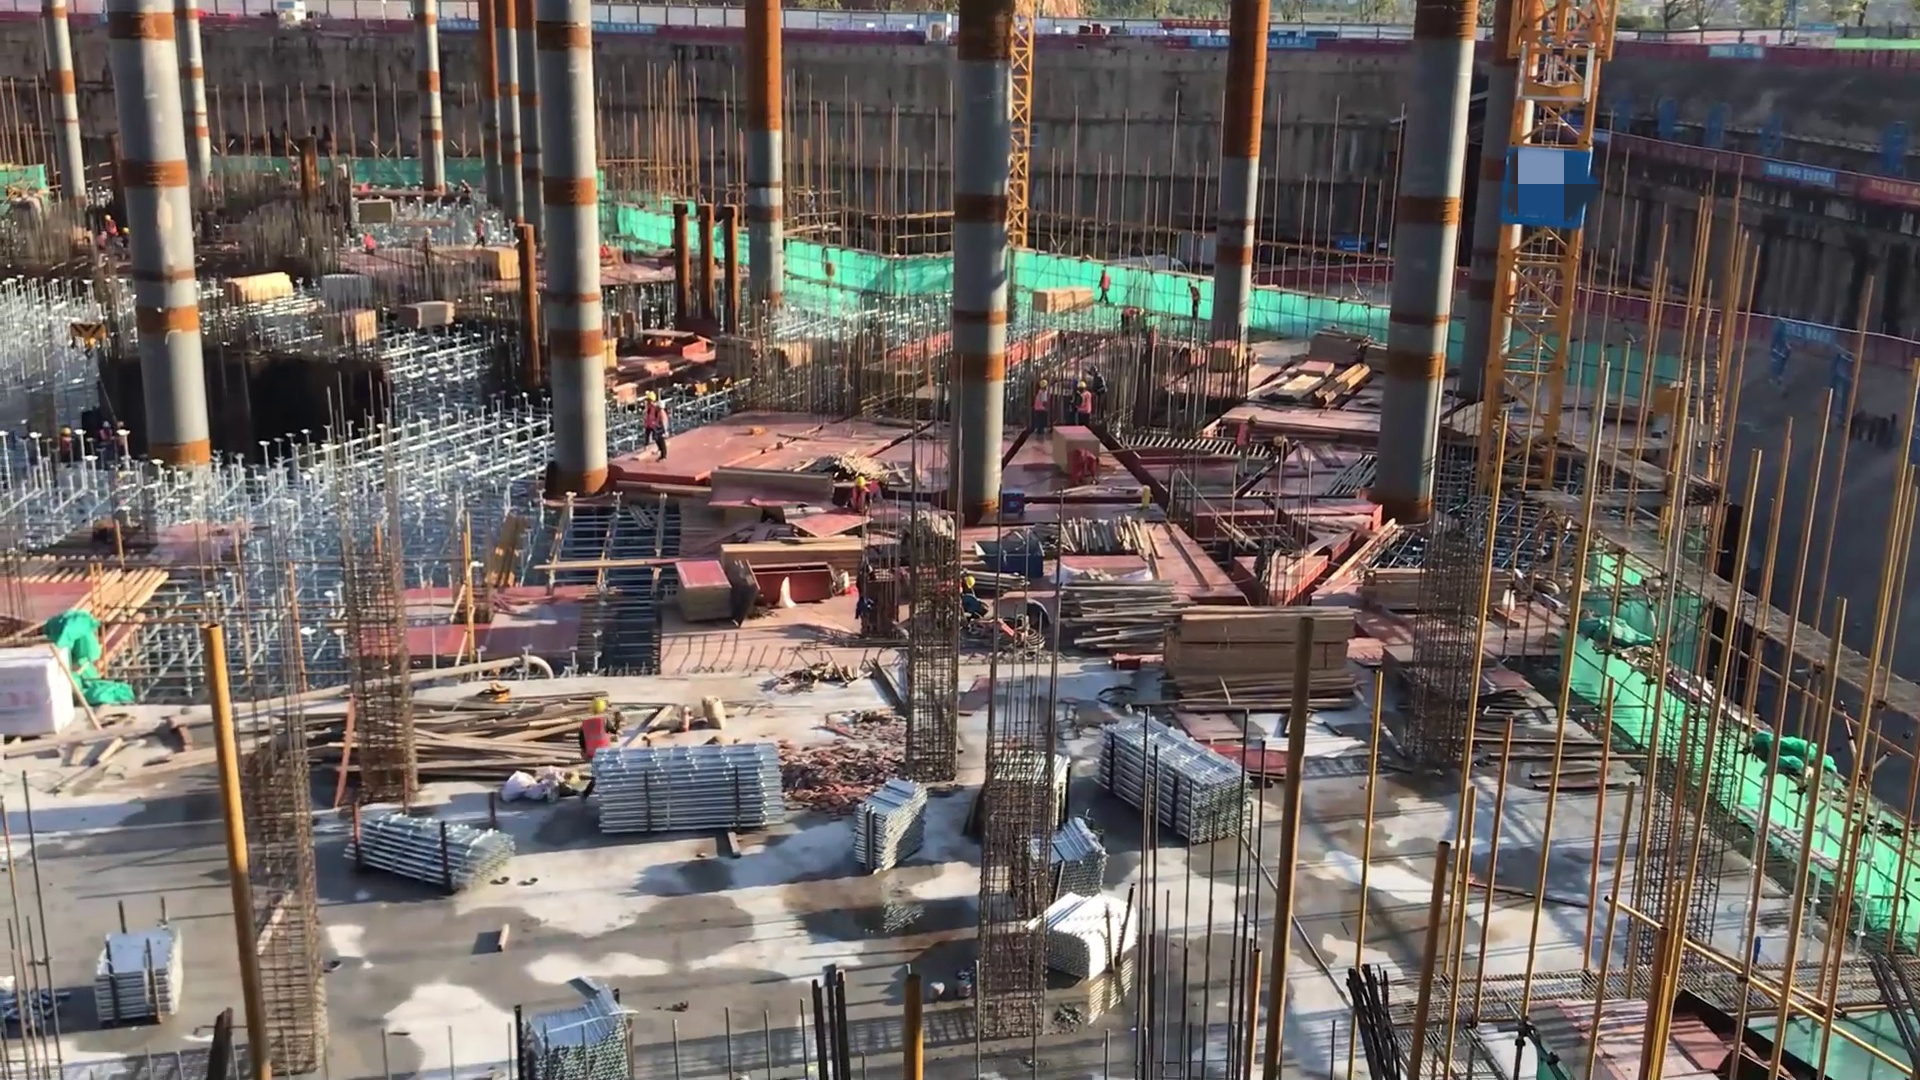board: (673, 557, 743, 629), (1205, 739, 1290, 795), (483, 246, 521, 281)
helmet: (591, 694, 609, 717), (964, 573, 977, 594), (853, 474, 866, 490), (1037, 381, 1051, 394), (653, 400, 668, 411), (1246, 414, 1258, 429), (1273, 435, 1285, 449), (1077, 380, 1086, 394), (646, 392, 658, 402), (61, 427, 74, 437), (101, 418, 110, 430)
hook: (980, 535, 1056, 577)
person: (578, 695, 625, 777), (931, 575, 988, 616), (848, 473, 891, 518), (1026, 374, 1055, 440), (845, 474, 876, 531), (1238, 410, 1259, 487), (1087, 360, 1110, 422), (1072, 376, 1094, 436), (1071, 446, 1101, 490), (653, 400, 670, 465), (641, 391, 661, 448), (1187, 274, 1205, 331), (598, 235, 620, 274), (1263, 435, 1290, 468), (1122, 304, 1144, 336), (97, 417, 113, 460), (103, 211, 121, 246), (359, 229, 379, 263), (1098, 261, 1112, 307), (58, 427, 74, 464), (475, 214, 488, 251)
scaffold: (1093, 706, 1238, 851), (586, 748, 797, 838), (350, 809, 509, 896), (515, 984, 638, 1080), (1020, 824, 1122, 910), (852, 771, 931, 871)
slogan: (1751, 160, 1848, 195), (589, 14, 676, 42), (1868, 176, 1917, 215), (435, 13, 485, 41), (1261, 32, 1317, 53), (1194, 32, 1238, 50), (1710, 46, 1767, 61)
vest: (581, 713, 622, 763), (850, 487, 869, 516), (1076, 390, 1094, 418), (656, 409, 668, 444), (1238, 420, 1252, 452), (1094, 370, 1110, 396), (1033, 390, 1049, 413)
wood: (1167, 601, 1356, 715), (420, 690, 600, 787), (1063, 566, 1183, 659), (1354, 563, 1518, 624), (716, 536, 867, 588), (214, 265, 299, 309), (396, 298, 462, 332), (1031, 285, 1090, 318)
